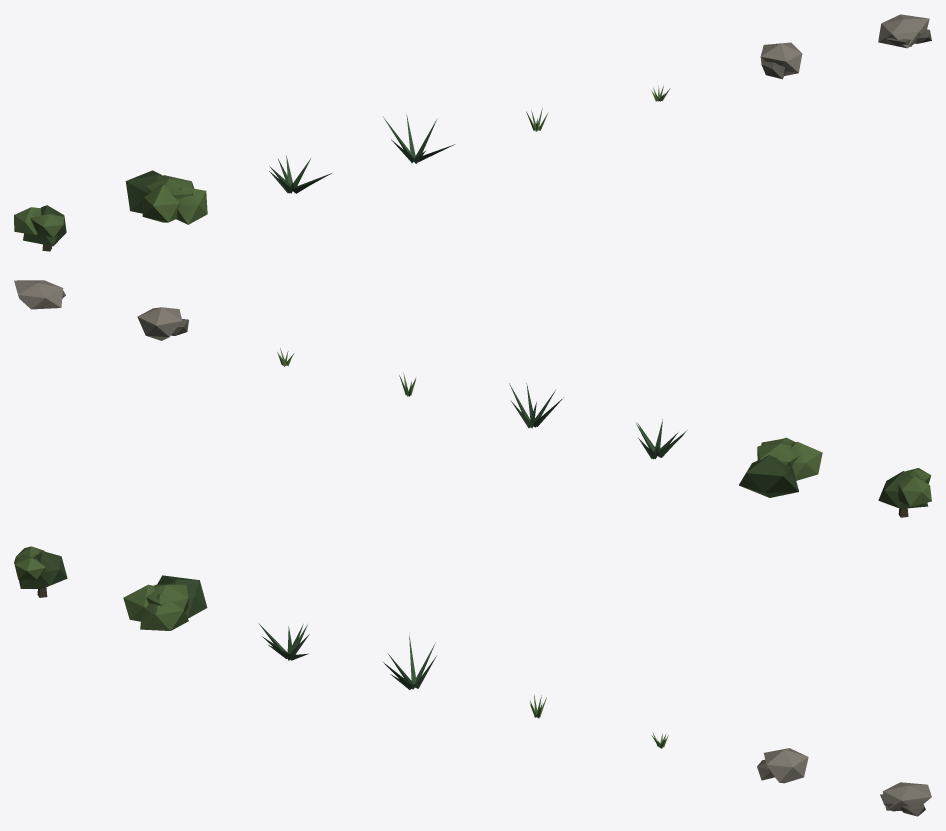
File: groundcover_kit.glb
3 renders of one model, top to bottom at view 1: azimuth 30°, elevation 25°; view 2: azimuth 150°, elevation 25°; view 3: azimuth 330°, elevation 25°, orthographic.
Visible parts, largest first — view 1: gc_bush_b, gc_bush_a, gc_rock_b, gc_rock_a, gc_fern_b, gc_fern_a; view 2: gc_bush_b, gc_bush_a, gc_rock_a, gc_rock_b, gc_fern_b, gc_fern_a; view 3: gc_bush_b, gc_bush_a, gc_rock_a, gc_rock_b, gc_fern_b, gc_fern_a.
Boxes of the visible parts, bbox=[...] form: gc_bush_b: bbox=[125, 170, 207, 224]; gc_bush_a: bbox=[14, 205, 66, 251]; gc_rock_b: bbox=[878, 14, 931, 48]; gc_rock_a: bbox=[760, 42, 802, 79]; gc_fern_b: bbox=[383, 114, 455, 163]; gc_fern_a: bbox=[269, 155, 331, 193]; gc_bush_b: bbox=[739, 437, 822, 497]; gc_bush_a: bbox=[878, 468, 931, 517]; gc_rock_a: bbox=[137, 307, 188, 340]; gc_rock_b: bbox=[14, 280, 65, 309]; gc_fern_b: bbox=[509, 383, 563, 428]; gc_fern_a: bbox=[636, 419, 687, 459]; gc_bush_b: bbox=[123, 575, 207, 630]; gc_bush_a: bbox=[14, 546, 67, 597]; gc_rock_a: bbox=[757, 748, 808, 783]; gc_rock_b: bbox=[880, 782, 931, 816]; gc_fern_b: bbox=[382, 633, 436, 689]; gc_fern_a: bbox=[258, 623, 309, 660].
Bounding box in the file's own units: 8.94 × 0.4757 × 0.805.
